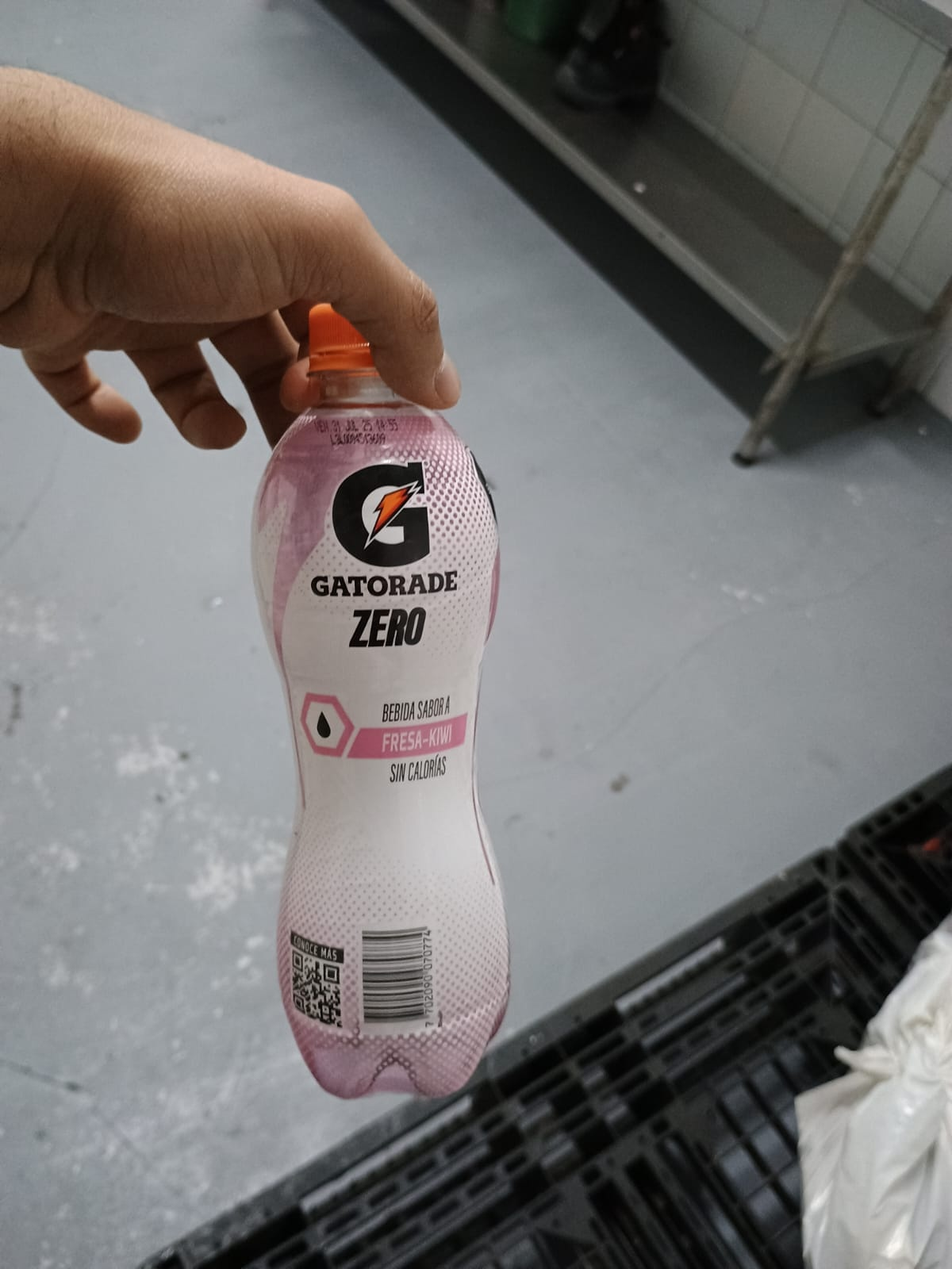Plastico: (250, 301, 512, 1106)
